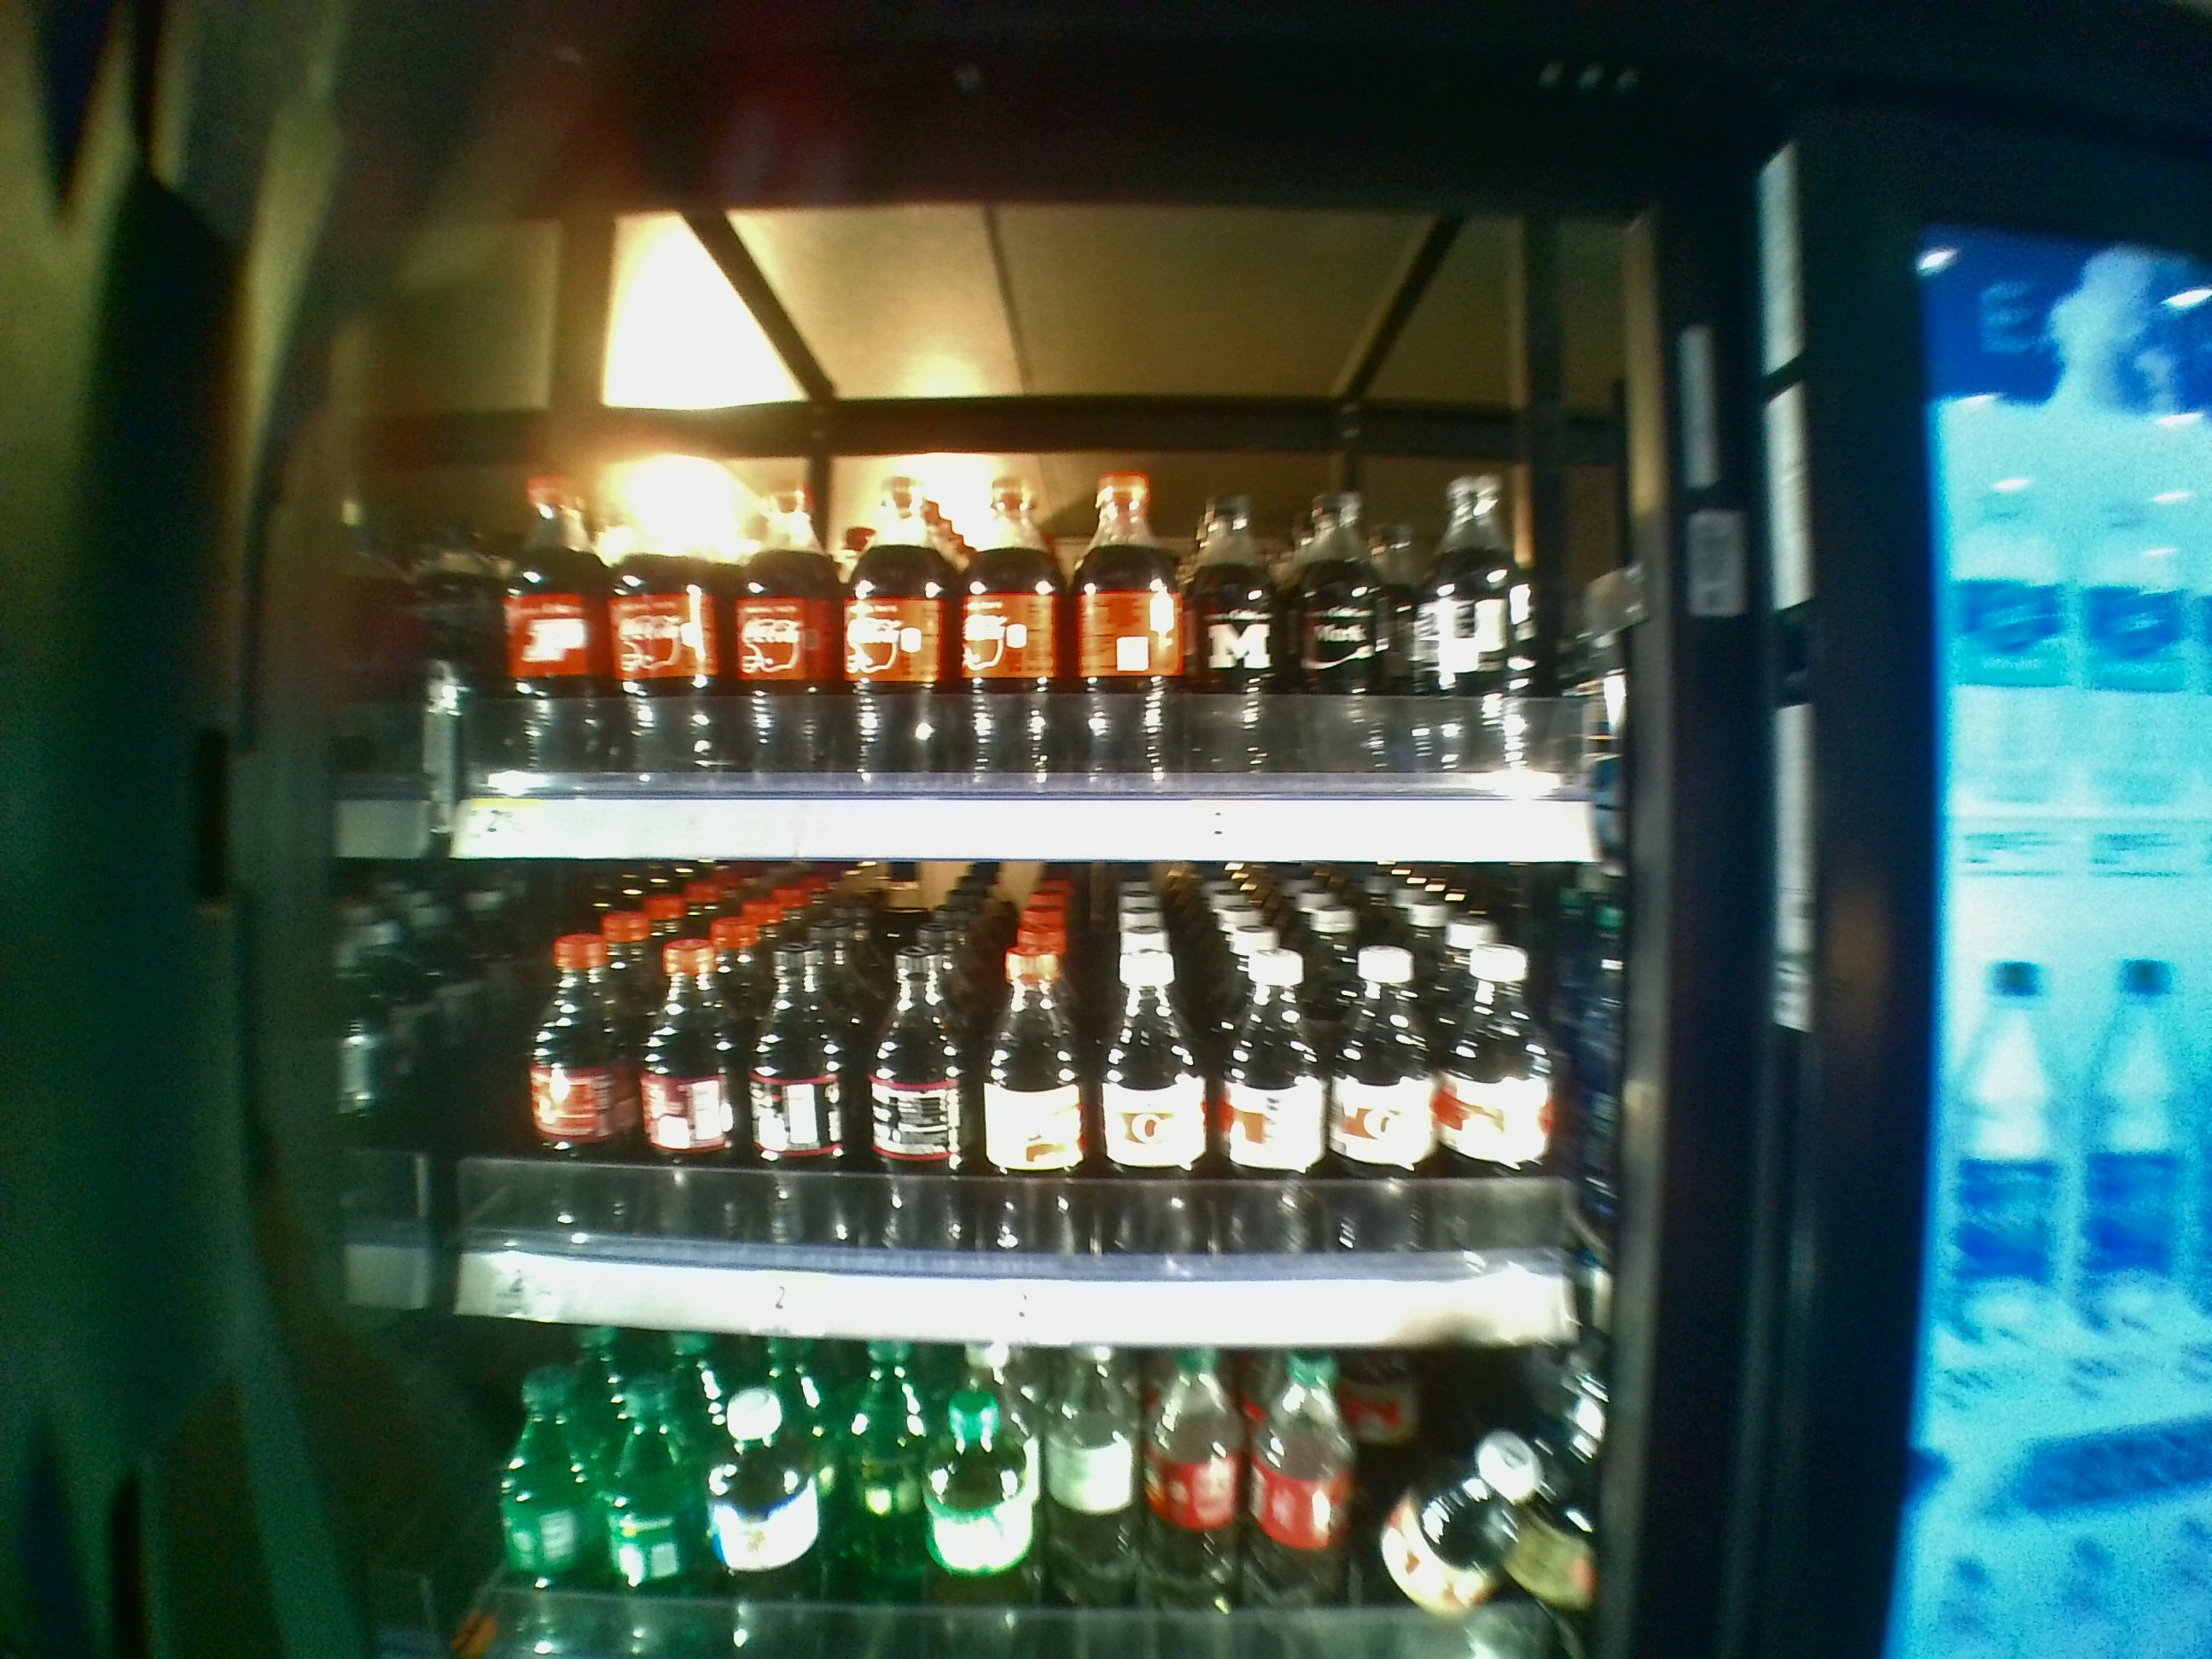shelf: (415, 204, 1629, 870), (411, 871, 1627, 1354)
